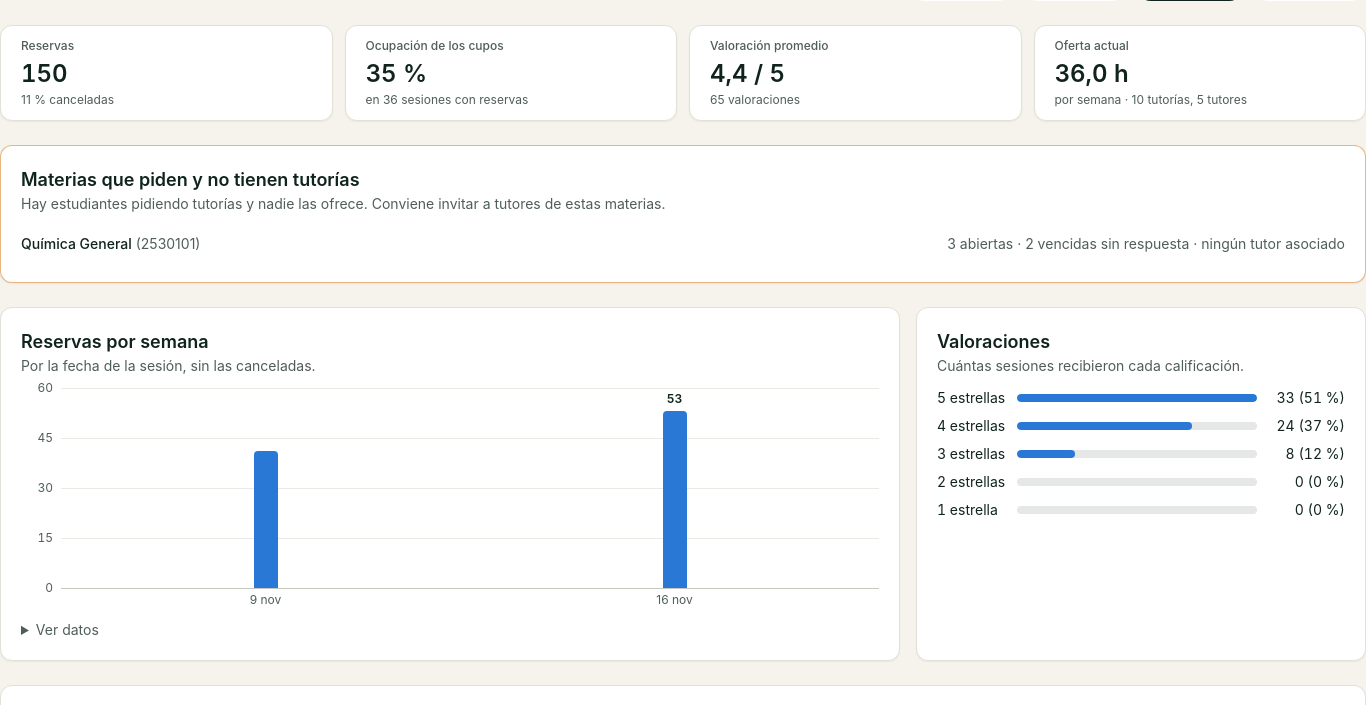
it: Estadísticas › muestra el resumen, la demanda sin oferta, las columnas accesibles y la tabla por materia
The image size is (1366, 705).
Expected: the text "150" is shown, [21, 59, 68, 88]
Expected: the text "35 %" is shown, [366, 59, 427, 88]
// Tooltip al enfocar con el teclado
Focus the list item named "Semana del 9 nov: 41 reservas · 15 canceladas": (266, 520) [254, 451, 278, 588]
(page scrolled)
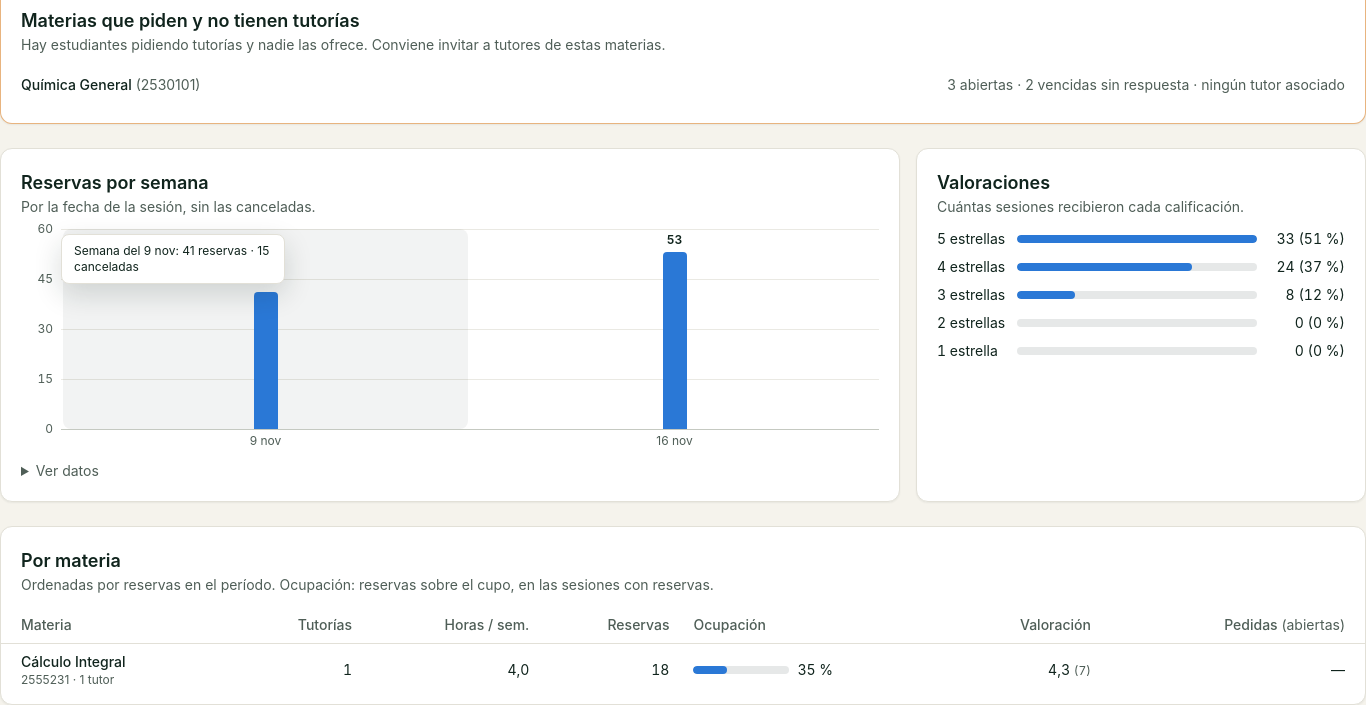
Expected: the column heading "Cálculo Integral 2555231 · 1 tutor" is shown, [1, 644, 237, 696]
Now the tooltip shows "41 reservas", box [74, 243, 269, 274]
